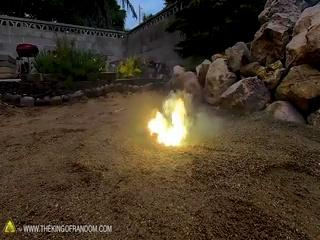Fire: (146, 79, 190, 147)
